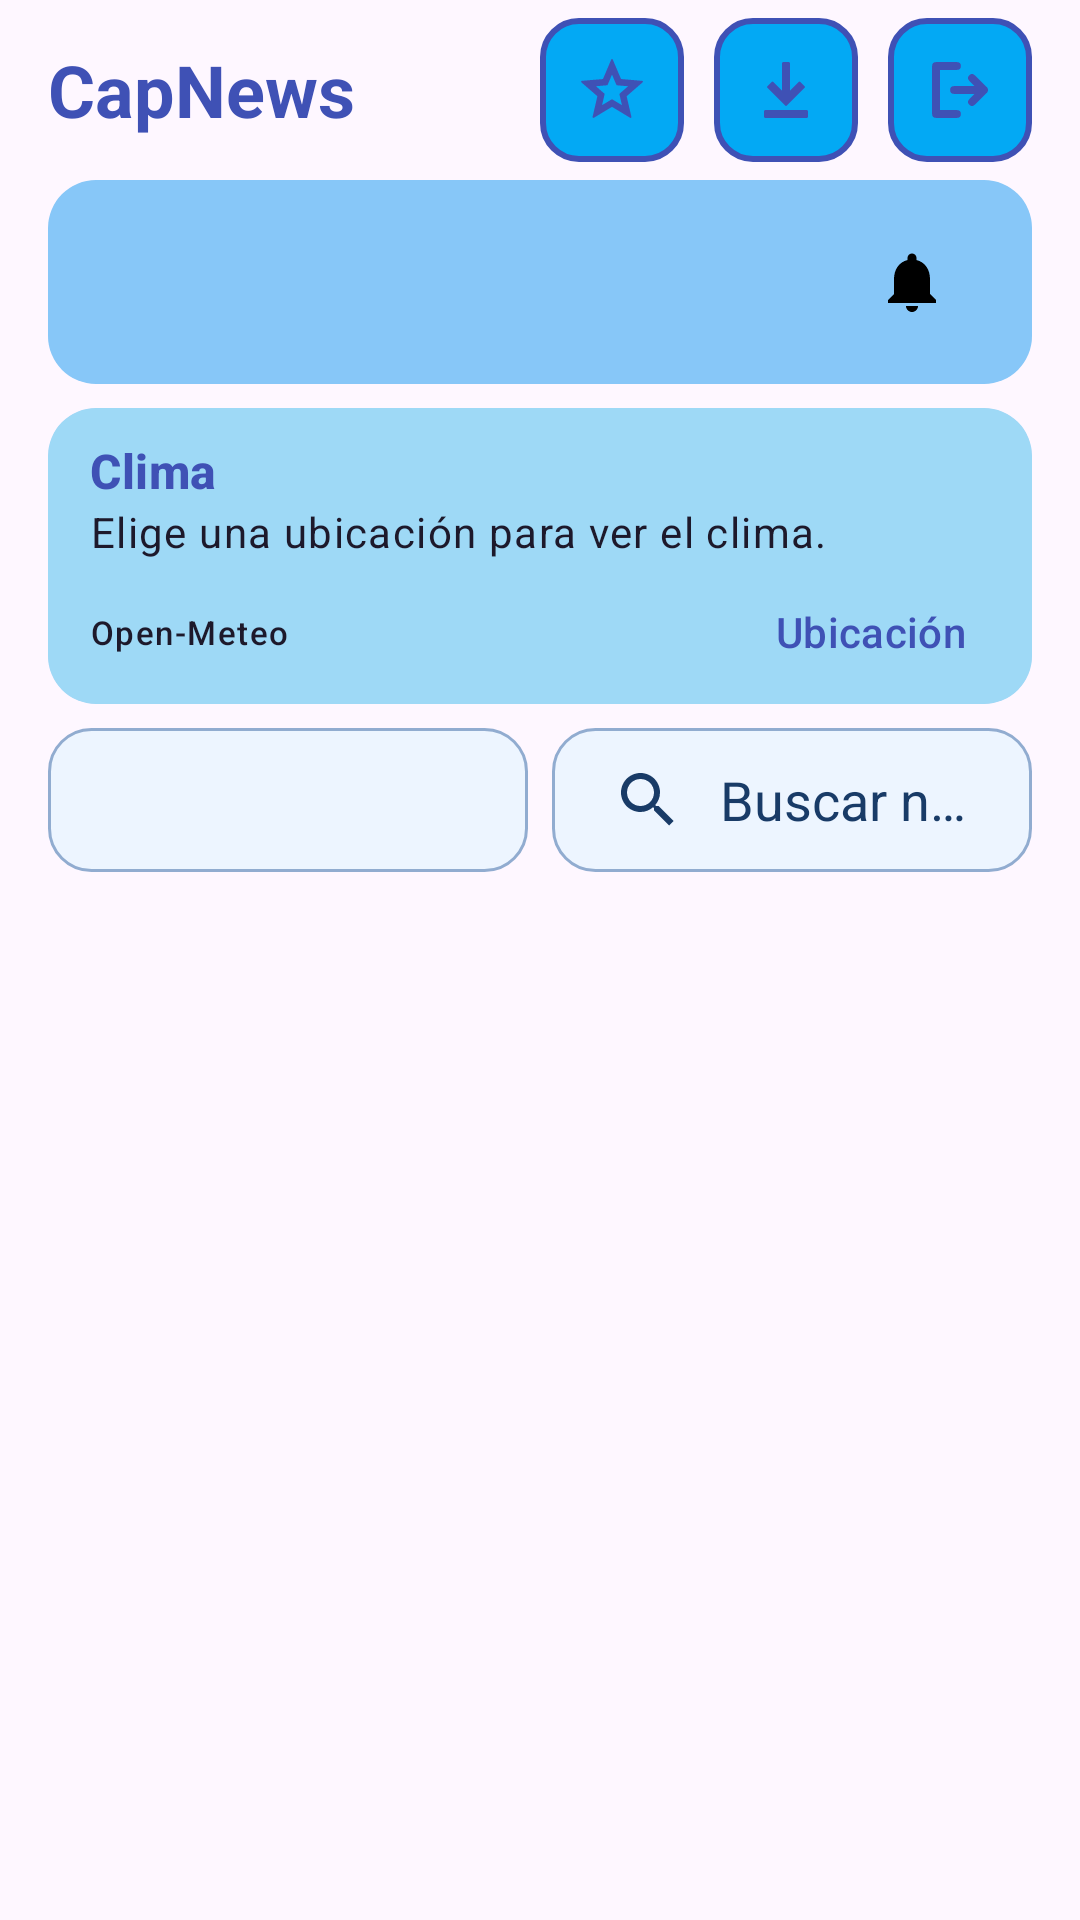

Screen size 1080px×1920px. Icon name, then its box in pixels as (x1, y1, x2, y2):
Descargas: (714, 18, 858, 162)
Mis noticias favoritas: (540, 18, 684, 162)
